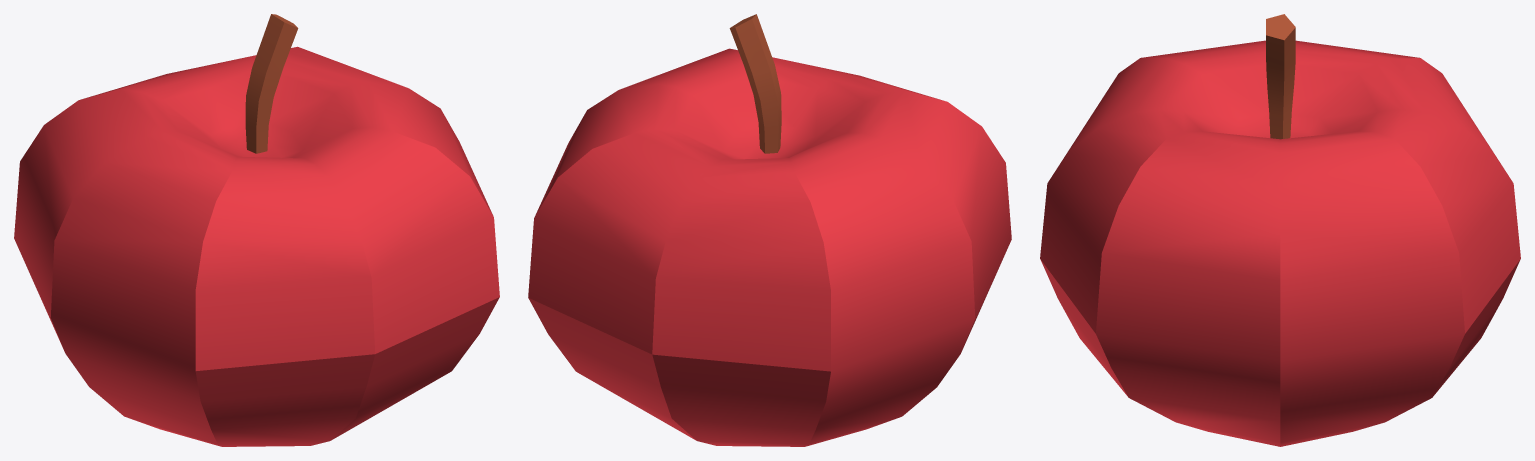
The model's file is Apple.fbx.
The picture shows the model from 3 angles, left to right: view 1: azimuth 30°, elevation 25°; view 2: azimuth 150°, elevation 25°; view 3: azimuth 270°, elevation 25°; orthographic projection. The views are drawn at different scales.
Parts seen in each view (by area): view 1: APPLE; view 2: APPLE; view 3: APPLE.
Part boxes in pixels (<box>): APPLE: <box>14,14,499,446</box>; APPLE: <box>528,14,1011,446</box>; APPLE: <box>1040,14,1520,446</box>.
Size of the model in its own units: 88.84 by 83.11 by 88.24.
